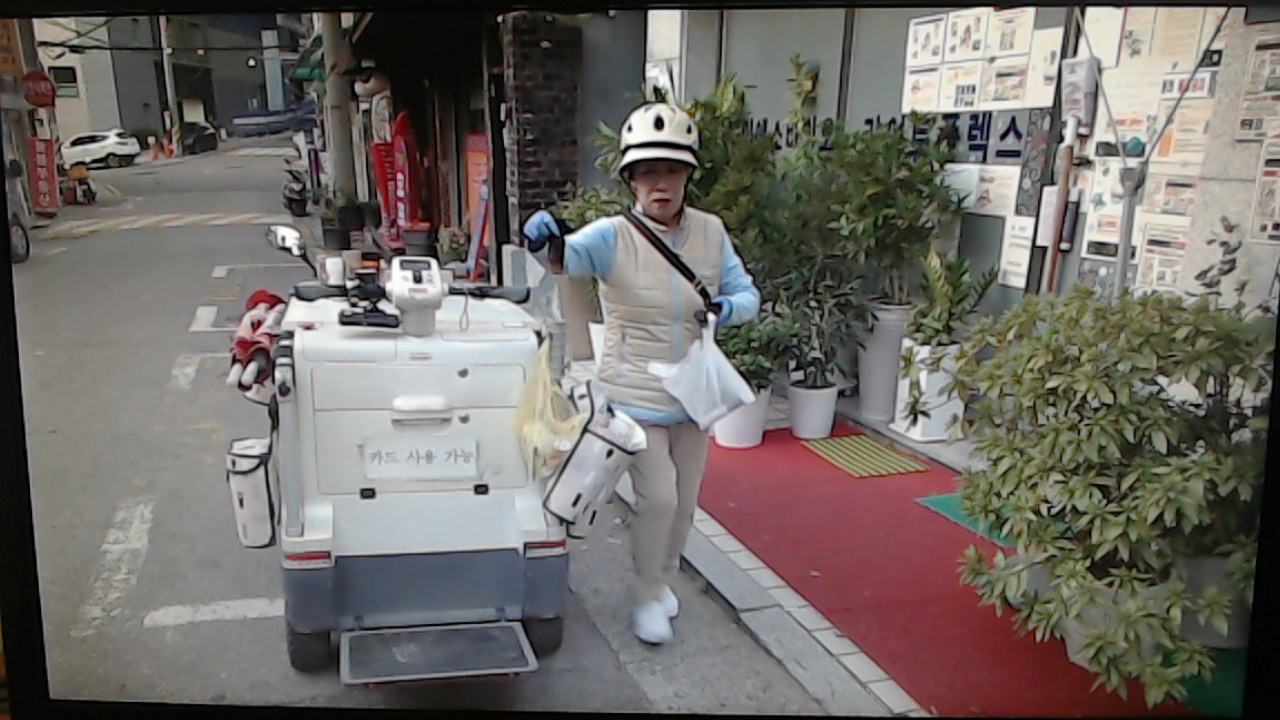Yakurut: (516, 92, 785, 669)
